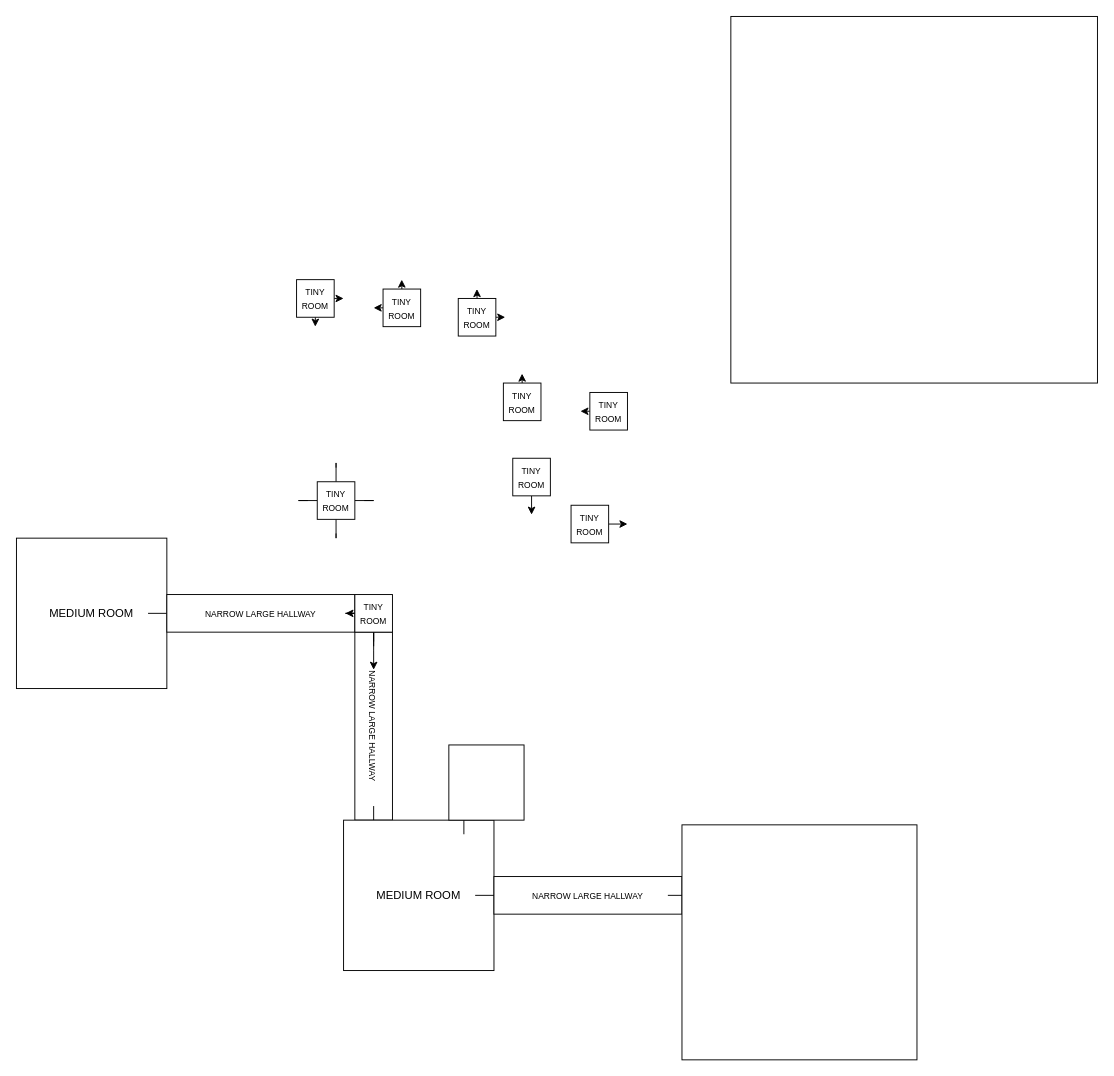
The diagram is 1114 pixels wide and 1076 high, and some of its shapes have lost their labels. The centre of each missing label's shape, as x and y in pixels:
"GIANT ROOM" goes at point 913,199.
"LARGE ROOM" goes at point 799,942.
"SMALL ROOM" goes at point 486,782.
